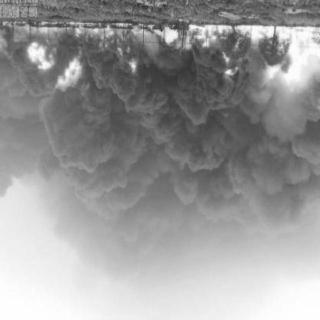Smoke: (12, 86, 310, 272)
